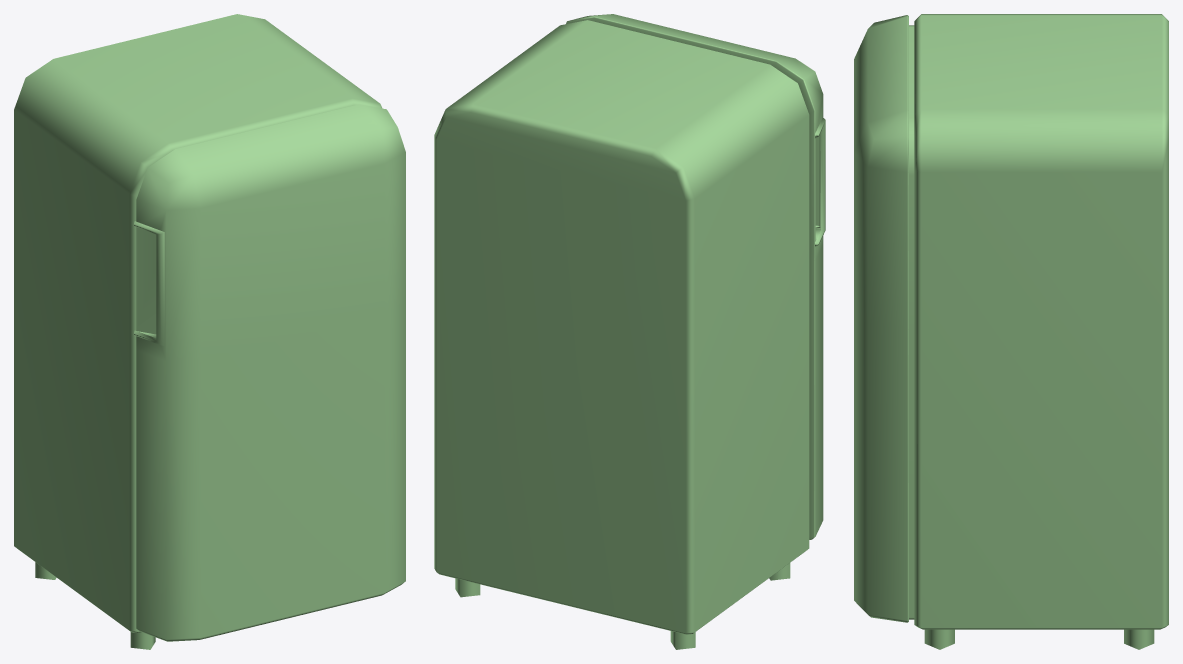
Rendered from Fridge01.fbx.
The picture shows the model from 3 angles, left to right: view 1: azimuth 30°, elevation 25°; view 2: azimuth 150°, elevation 25°; view 3: azimuth 270°, elevation 25°; orthographic projection. The views are drawn at different scales.
Visible parts, largest first — view 1: Fridge_Fridge; view 2: Fridge_Fridge; view 3: Fridge_Fridge.
Part boxes in pixels (x1=…): Fridge_Fridge: x1=14, y1=14, x2=405, y2=649; Fridge_Fridge: x1=434, y1=14, x2=825, y2=649; Fridge_Fridge: x1=854, y1=14, x2=1168, y2=649.
Bounding box in the file's own units: 39.21 × 71.23 × 38.64.
